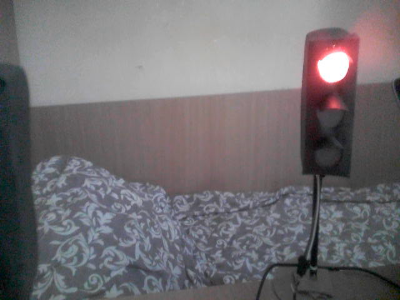trafficlight_red: (302, 36, 358, 175)
